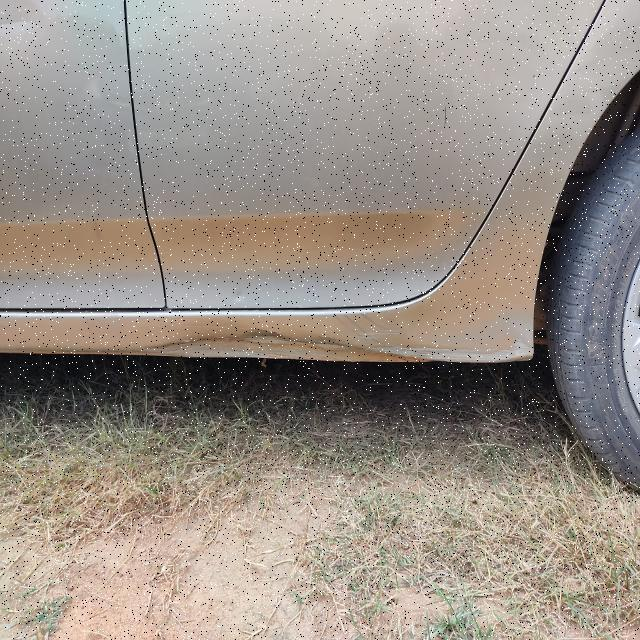RunningBoard-Dent: (132, 308, 444, 370)
